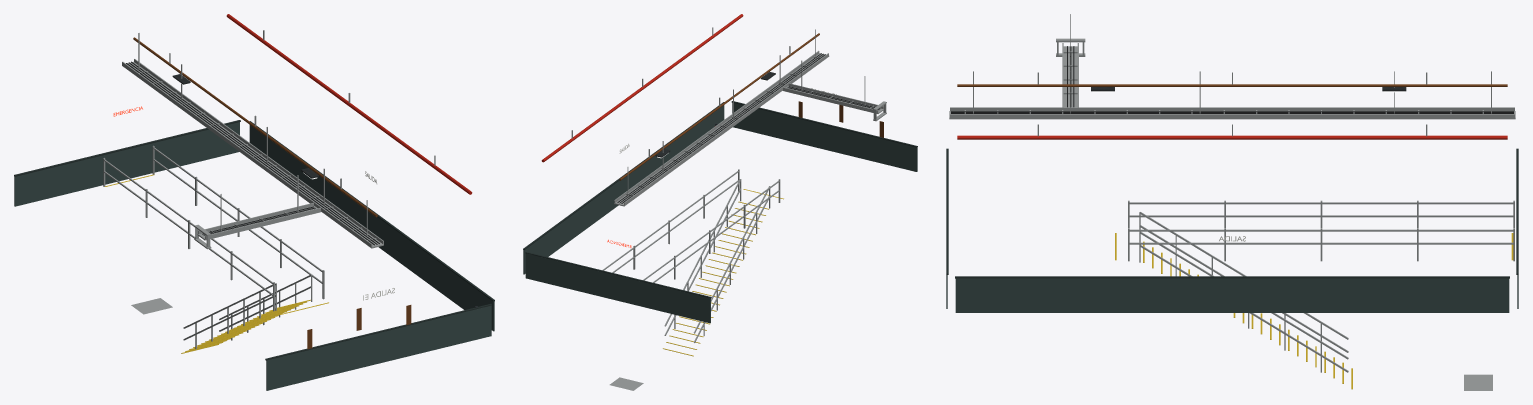
File: stairs_e1_art.glb
The picture shows the model from 3 angles, left to right: view 1: azimuth 30°, elevation 25°; view 2: azimuth 150°, elevation 25°; view 3: azimuth 270°, elevation 25°; orthographic projection. The views are drawn at different scales.
Parts seen in each view (by area): view 1: ST_E1_Wainscot_TRIM, ST_E1_TrayLink_CABLE, ST_E1_Guardrails_TRIM, ST_E1_Ceiling_CABLE, ST_E1_Handrails_TRIM, ST_E1_StepNosings_TRIM; view 2: ST_E1_Wainscot_TRIM, ST_E1_TrayLink_CABLE, ST_E1_Guardrails_TRIM, ST_E1_Ceiling_CABLE, ST_E1_Handrails_TRIM, ST_E1_StepNosings_TRIM; view 3: ST_E1_Wainscot_TRIM, ST_E1_TrayLink_CABLE, ST_E1_Guardrails_TRIM, ST_E1_Ceiling_CABLE, ST_E1_Handrails_TRIM, ST_E1_StepNosings_TRIM, ST_E1_Puddle_DIS_WATER.
Boxes of the visible parts, x1,y1,x2,y2 form: ST_E1_Wainscot_TRIM: (14, 120, 494, 390); ST_E1_TrayLink_CABLE: (122, 33, 383, 249); ST_E1_Guardrails_TRIM: (103, 145, 324, 311); ST_E1_Ceiling_CABLE: (133, 14, 472, 217); ST_E1_Handrails_TRIM: (183, 274, 312, 349); ST_E1_StepNosings_TRIM: (181, 299, 310, 353); ST_E1_Wainscot_TRIM: (523, 101, 917, 323); ST_E1_TrayLink_CABLE: (614, 29, 886, 206); ST_E1_Guardrails_TRIM: (602, 169, 780, 282); ST_E1_Ceiling_CABLE: (541, 14, 819, 180); ST_E1_Handrails_TRIM: (664, 179, 770, 342); ST_E1_StepNosings_TRIM: (663, 201, 768, 356); ST_E1_Wainscot_TRIM: (946, 148, 1518, 312); ST_E1_TrayLink_CABLE: (949, 14, 1515, 119); ST_E1_Guardrails_TRIM: (1128, 200, 1514, 261); ST_E1_Ceiling_CABLE: (957, 72, 1507, 139); ST_E1_Handrails_TRIM: (1139, 212, 1348, 372); ST_E1_StepNosings_TRIM: (1143, 241, 1352, 389); ST_E1_Puddle_DIS_WATER: (1464, 374, 1492, 390).
Bounding box in the file's own units: 9.85 × 10.49 × 17.69.
Materials: 15 (3 with a texture image).
